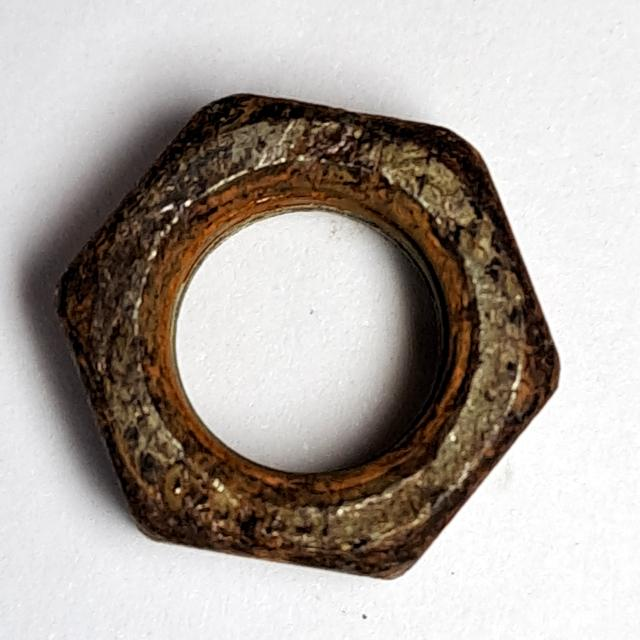Rust: (34, 79, 577, 607)
